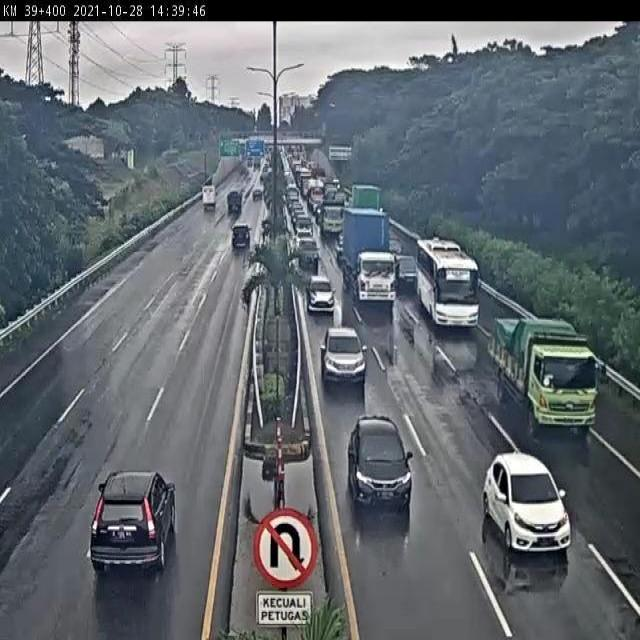big bus: (411, 222, 482, 338)
big truck: (340, 204, 400, 308), (348, 177, 385, 220)
car: (479, 447, 578, 565), (86, 466, 180, 578), (343, 407, 419, 521), (318, 319, 370, 388), (306, 270, 338, 314), (387, 248, 418, 293), (226, 227, 254, 261), (295, 230, 321, 266), (223, 191, 245, 217), (292, 224, 314, 248), (293, 210, 315, 230), (250, 186, 264, 202)
mid truck: (482, 308, 606, 439), (313, 196, 347, 239)
small truck: (198, 184, 218, 216)
